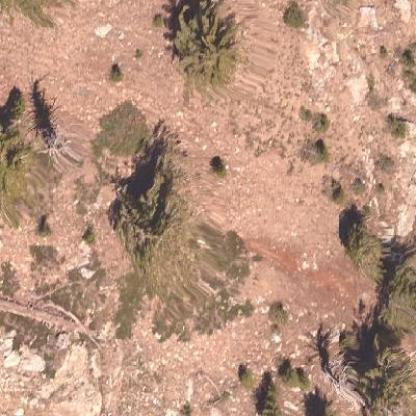tree-top: (337, 329, 415, 414), (166, 4, 236, 84), (0, 119, 47, 214), (335, 206, 386, 273)
